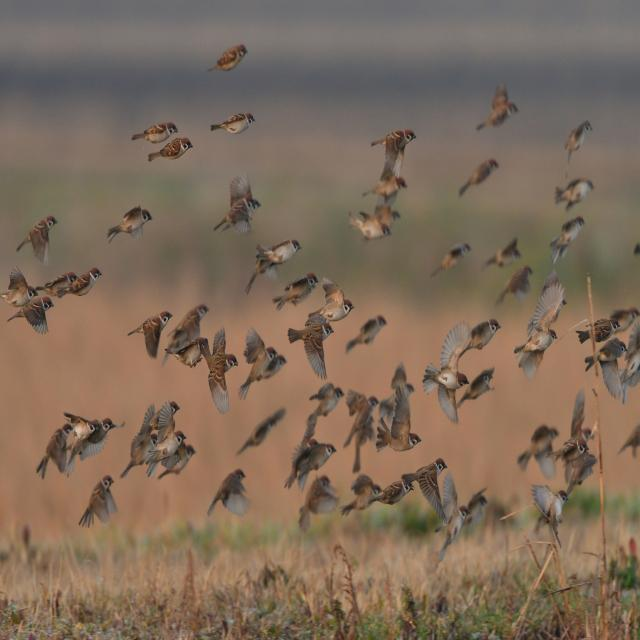bird: (359, 126, 422, 222), (419, 320, 474, 424), (134, 400, 192, 482), (234, 330, 292, 398), (378, 366, 422, 454), (398, 456, 448, 526), (516, 285, 562, 354), (245, 237, 306, 289), (214, 175, 263, 239), (286, 436, 336, 498), (290, 311, 331, 383), (527, 481, 569, 543), (207, 326, 238, 410), (517, 422, 561, 478), (18, 213, 61, 270), (586, 339, 626, 400), (135, 308, 176, 366), (209, 469, 253, 521), (476, 85, 520, 134), (455, 157, 505, 200), (80, 472, 119, 527), (105, 205, 156, 247), (312, 274, 354, 325), (34, 422, 70, 481), (6, 295, 53, 340), (344, 313, 390, 357), (129, 120, 185, 156), (482, 233, 526, 274), (549, 220, 591, 262), (553, 178, 596, 218), (354, 393, 383, 452), (276, 271, 318, 311), (502, 263, 538, 308), (208, 43, 254, 77), (561, 118, 597, 160), (55, 268, 101, 300), (207, 110, 256, 140), (348, 209, 390, 244), (164, 338, 212, 366), (3, 268, 36, 307), (436, 241, 476, 273), (577, 317, 618, 344)
